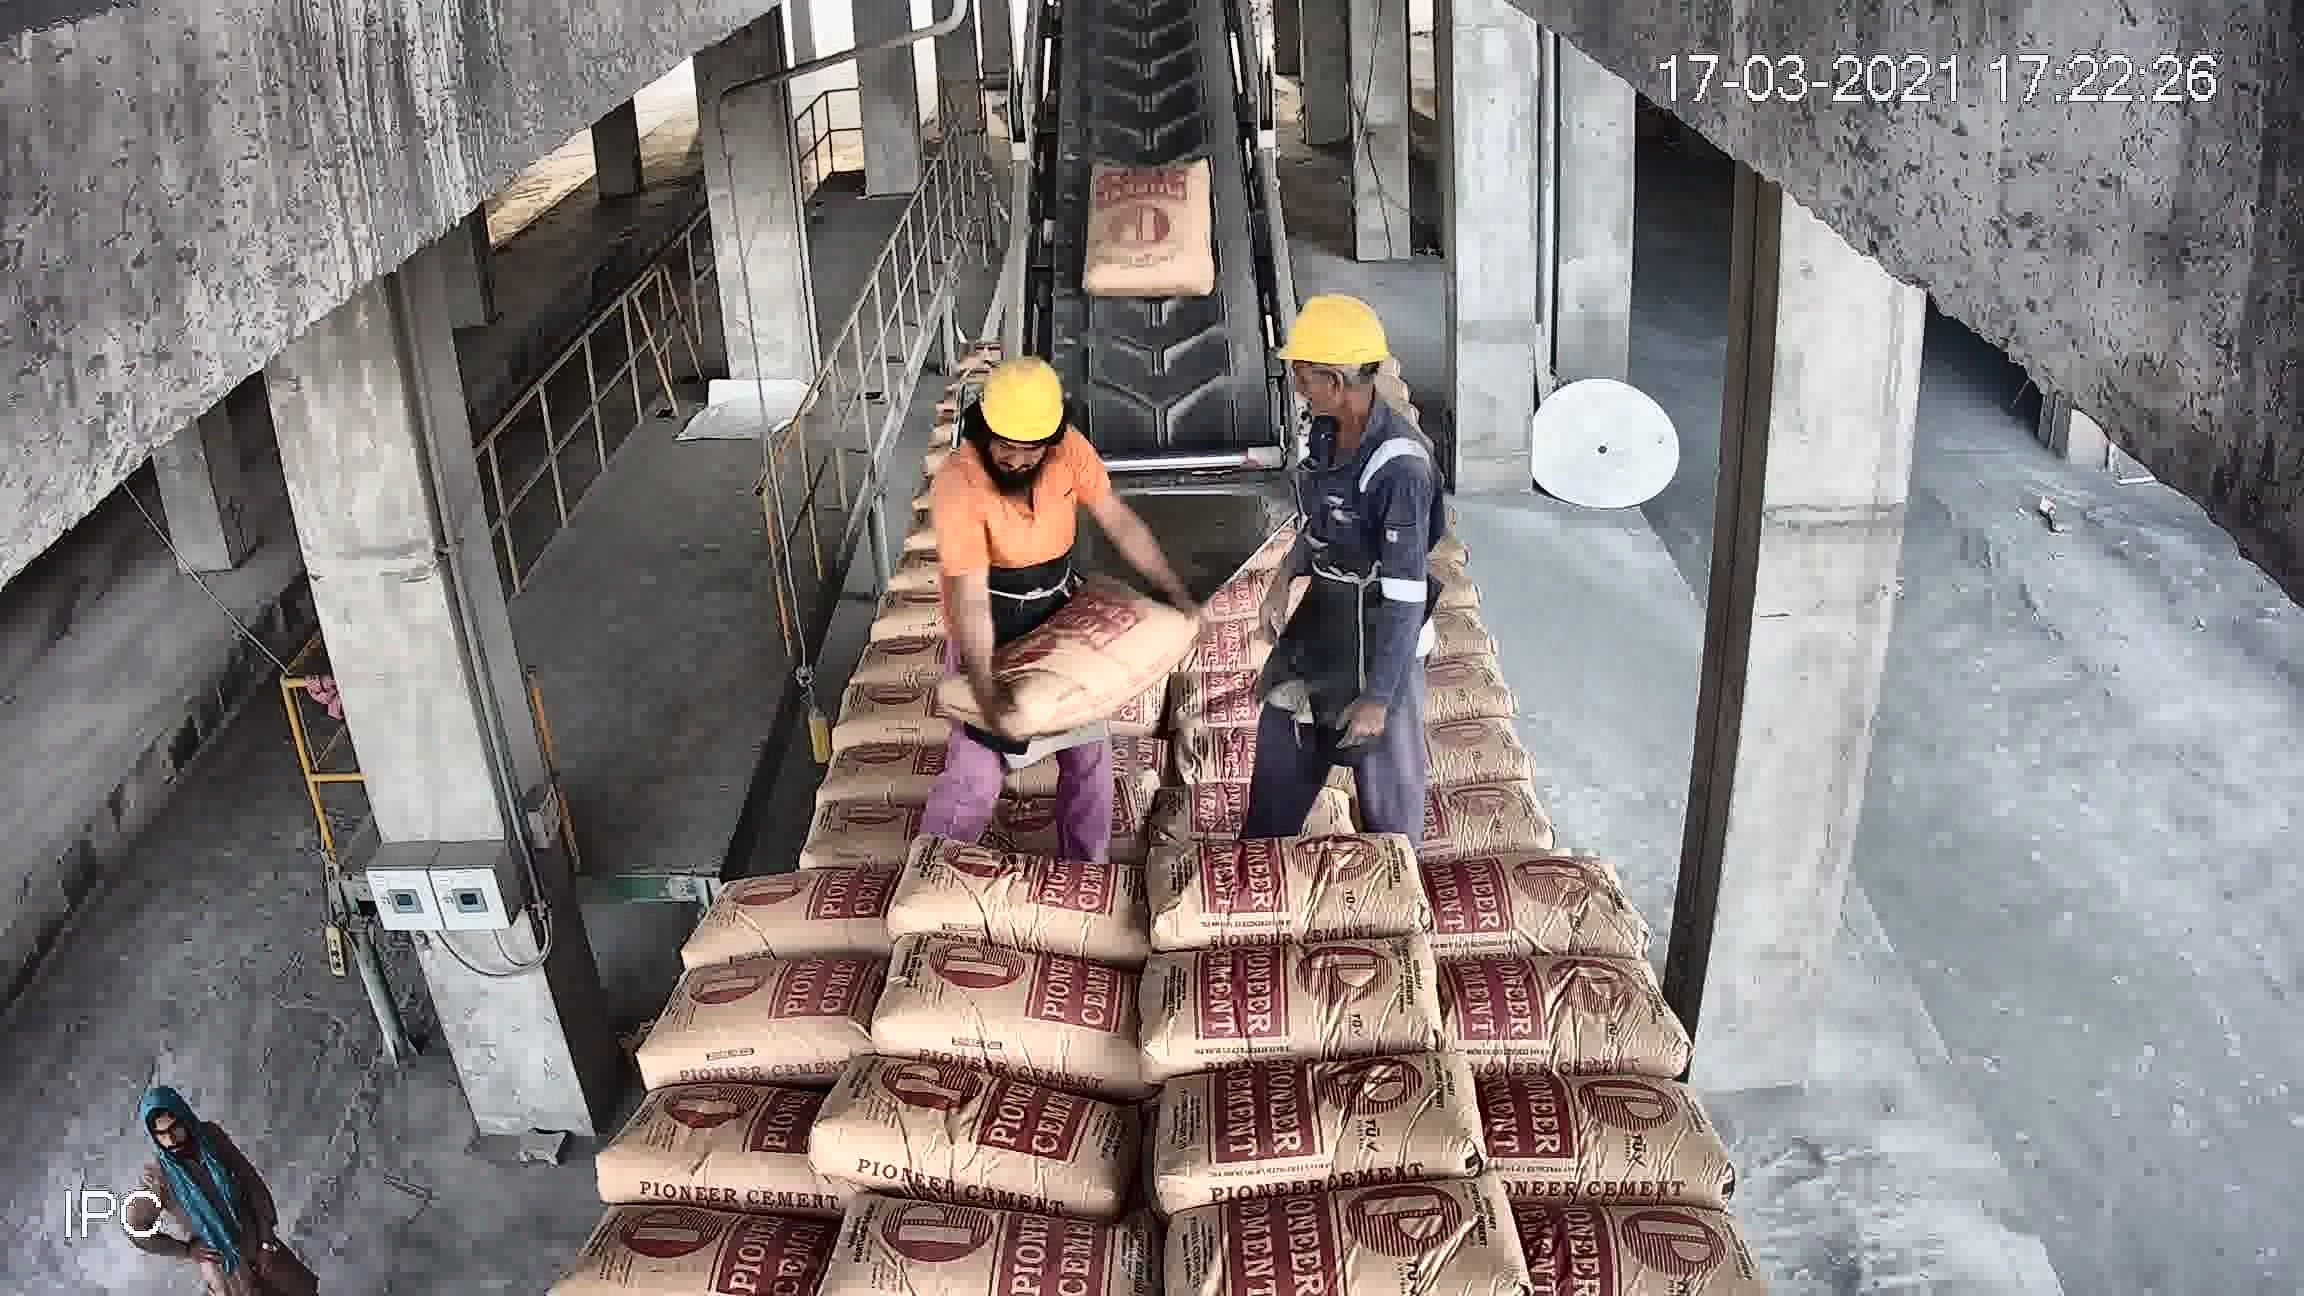bag: (1090, 141, 1209, 266)
bag_h: (1160, 1055, 1495, 1225), (1138, 927, 1438, 1086), (824, 1081, 1150, 1196), (1195, 1188, 1506, 1296), (609, 1070, 840, 1214), (1468, 1071, 1728, 1196), (652, 942, 885, 1081), (892, 951, 1125, 1084), (1152, 836, 1429, 942), (892, 843, 1154, 956), (1157, 726, 1385, 851), (1407, 964, 1671, 1068), (1464, 1198, 1756, 1291), (709, 763, 924, 885), (812, 1218, 1146, 1296), (559, 1211, 845, 1296), (676, 859, 899, 968), (1165, 647, 1367, 755), (1429, 866, 1644, 965), (744, 687, 929, 798), (902, 763, 1112, 850), (935, 674, 1154, 758), (1405, 752, 1567, 862), (1377, 692, 1556, 758), (836, 627, 1003, 688), (1353, 604, 1492, 665), (1380, 639, 1505, 703), (1065, 574, 1193, 631), (1059, 527, 1185, 582), (1065, 631, 1173, 690), (1337, 476, 1465, 525), (1367, 560, 1472, 619), (880, 538, 976, 592), (862, 597, 995, 635), (1342, 440, 1442, 491), (1356, 530, 1478, 570)
belt: (1029, 30, 1298, 468)
